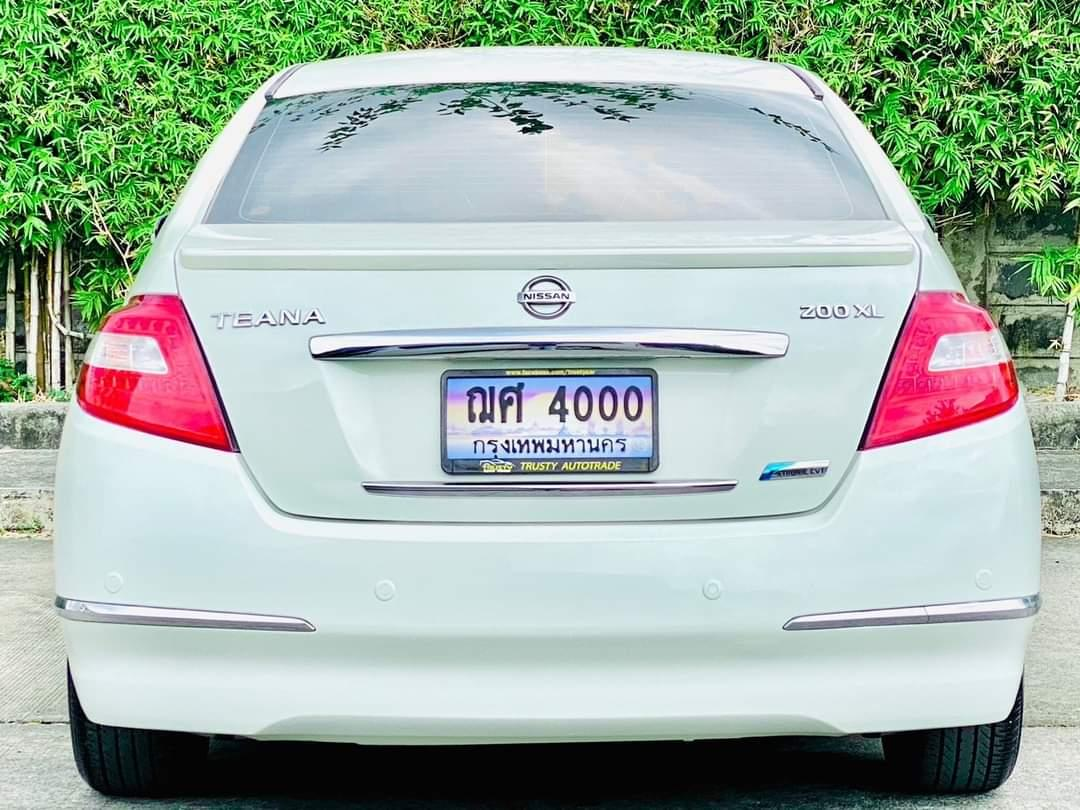license-plate: (442, 368, 663, 479)
